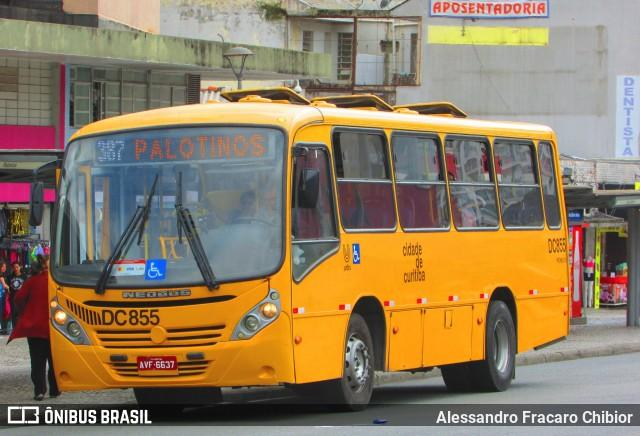PALOTINOS: (128, 130, 269, 164)
